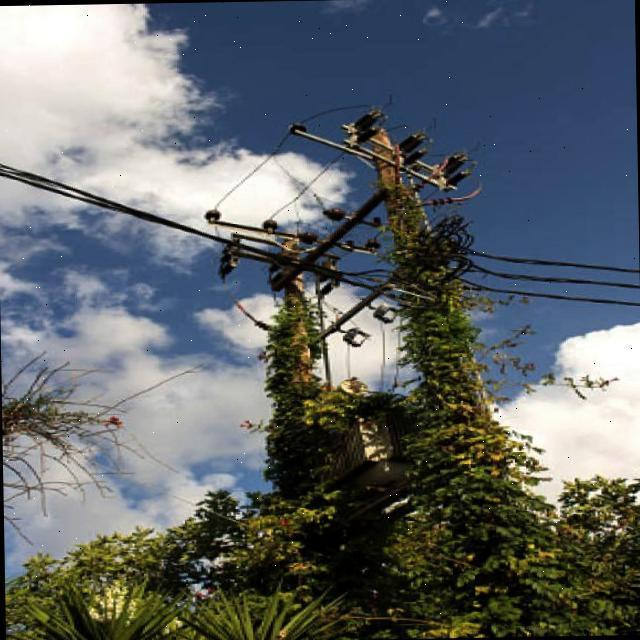critical vegetation: (374, 169, 528, 546), (326, 118, 479, 286), (250, 288, 354, 478), (229, 218, 344, 371)
